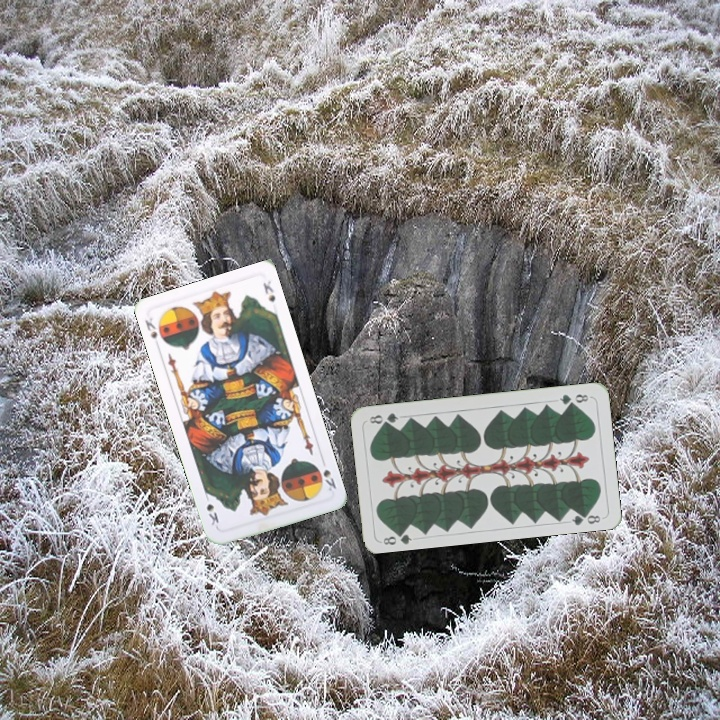G8: (379, 526, 414, 547), (555, 390, 591, 408)
SK: (141, 314, 168, 346), (319, 465, 339, 494)
